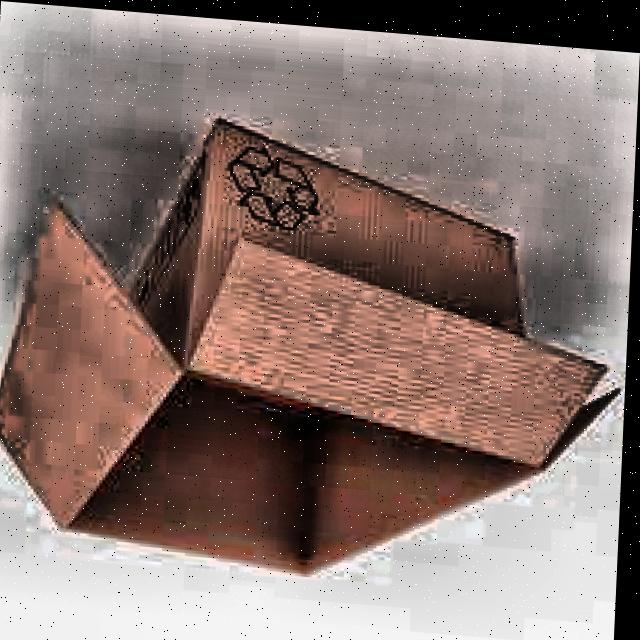cardboard: (0, 101, 625, 598)
